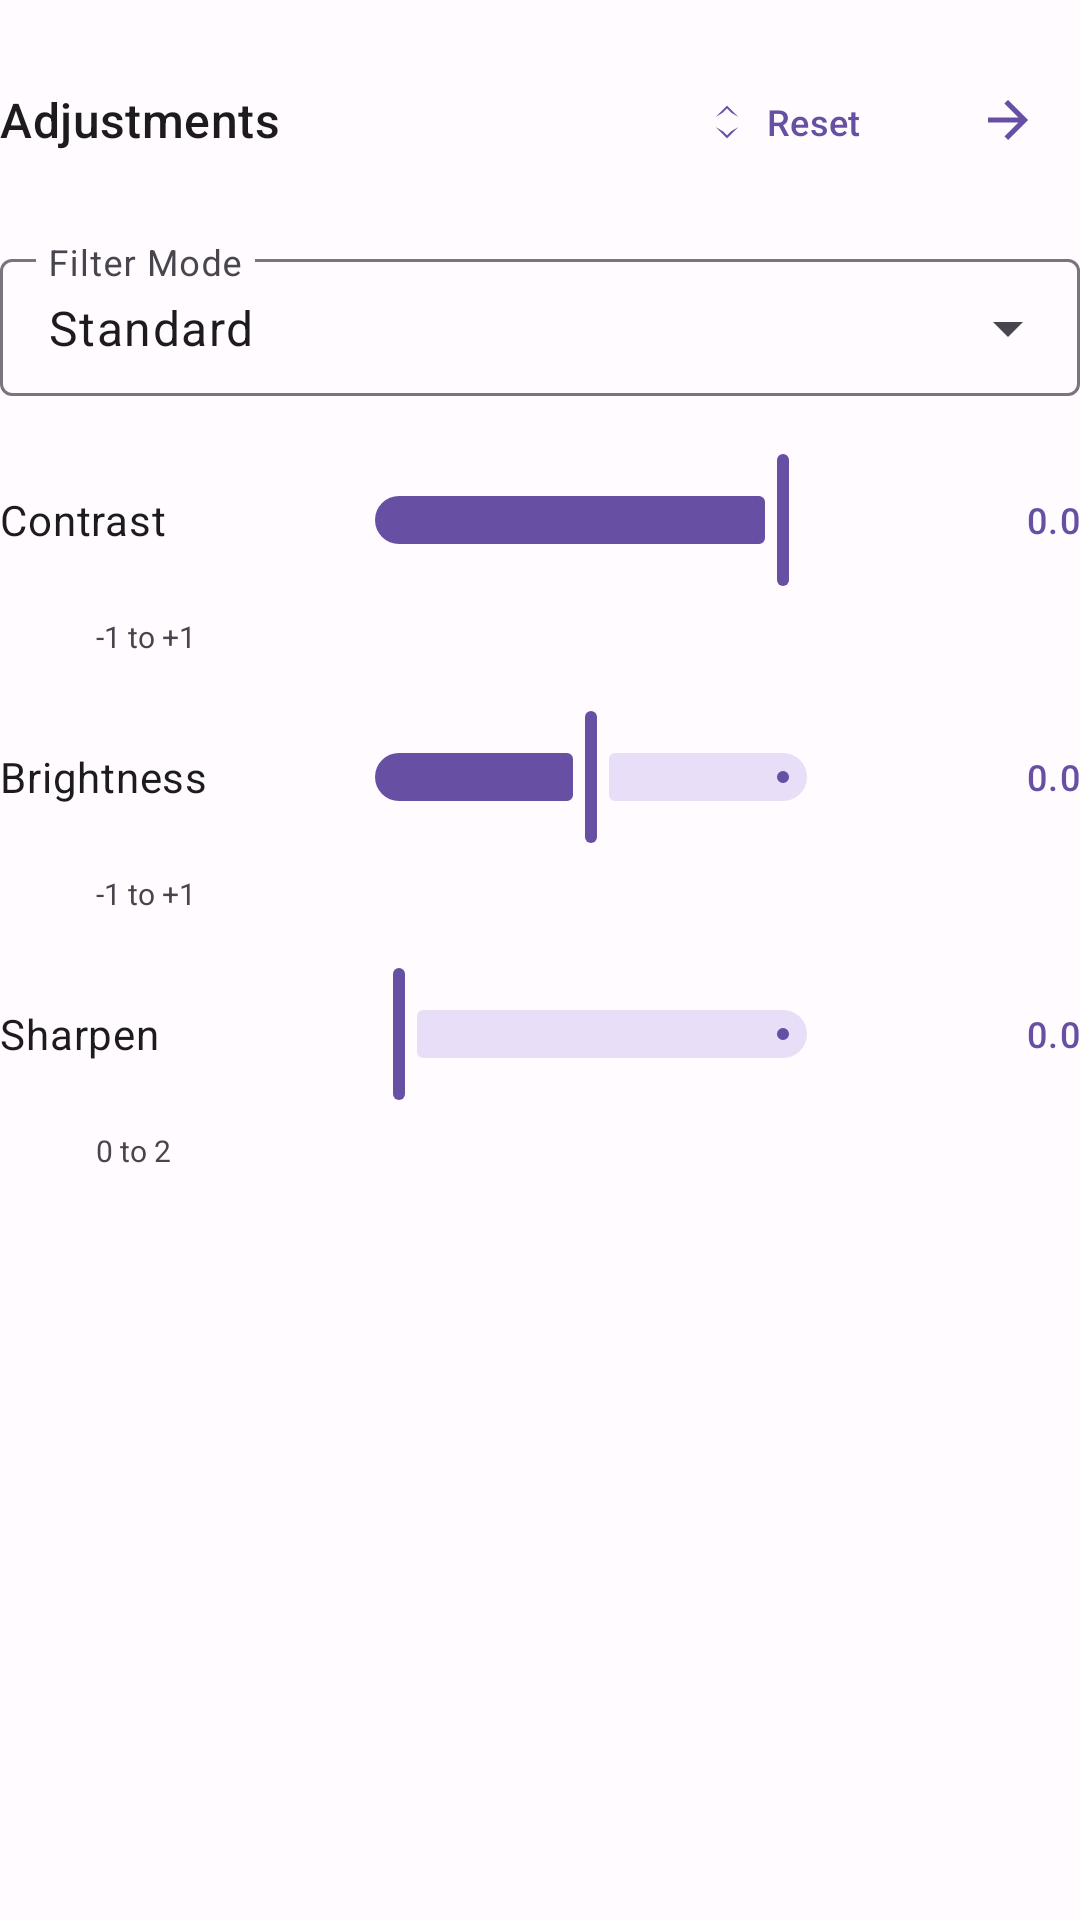

Named icons in this screenshot (1080px x 1920px) and their bounding boxes, (x1, y1, x2, y2):
arrow forward: (988, 100, 1028, 140)
